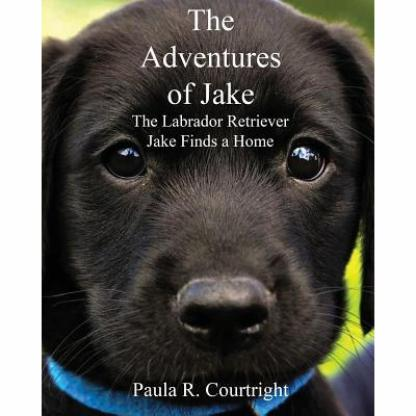dog: (40, 0, 369, 410)
